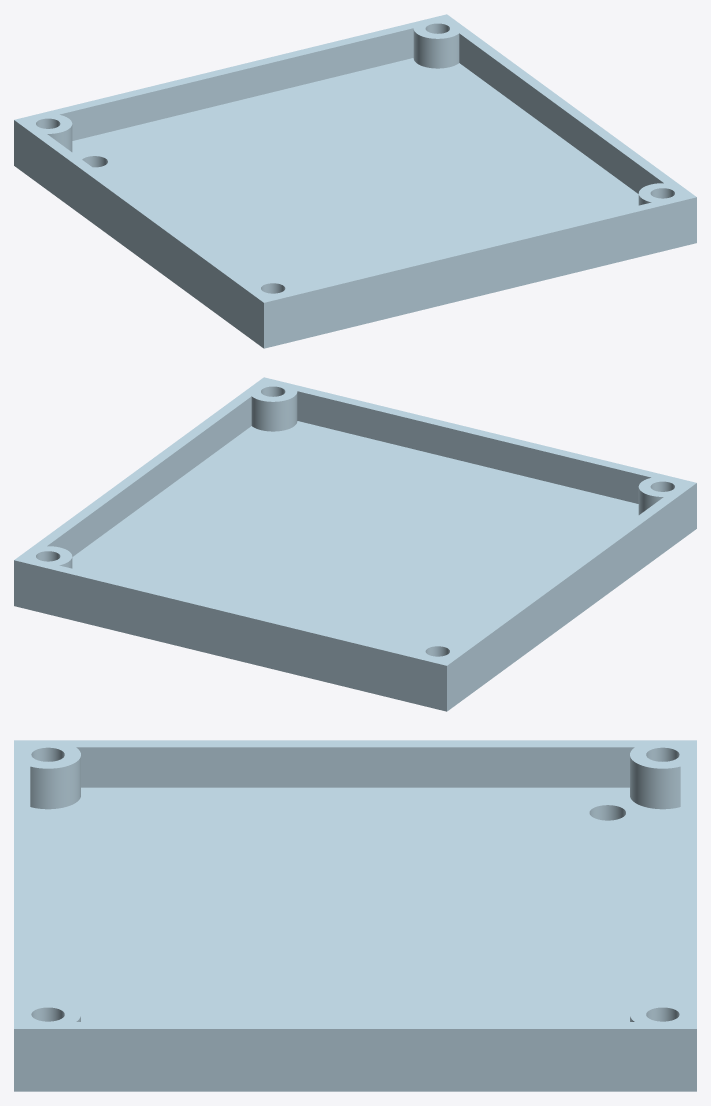
The picture shows the model from 3 angles, top to bottom: view 1: azimuth 30°, elevation 25°; view 2: azimuth 150°, elevation 25°; view 3: azimuth 270°, elevation 25°; orthographic projection. The views are drawn at different scales.
Parts seen in each view (by area): view 1: maze; view 2: maze; view 3: maze.
Part boxes in pixels (x1,y1,x2,y2): maze: [14, 14, 696, 348]; maze: [14, 377, 696, 711]; maze: [14, 740, 696, 1091].
Size of the model in its own units: 0.084 by 0.0085 by 0.084.
